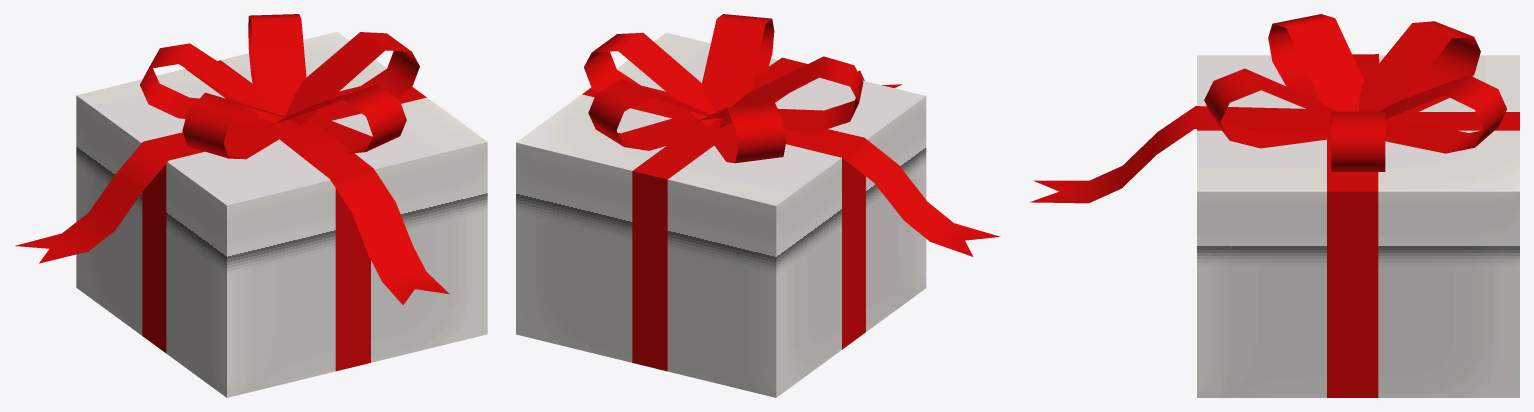
The model's file is giftbox.obj.
The picture shows the model from 3 angles, left to right: view 1: azimuth 30°, elevation 25°; view 2: azimuth 150°, elevation 25°; view 3: azimuth 270°, elevation 25°; orthographic projection. The views are drawn at different scales.
Parts seen in each view (by area): view 1: box, obj_frame_red; view 2: box, obj_frame_red; view 3: box, obj_frame_red.
Boxes of the visible parts, left/top/right/bottom form: box: left=76, top=32, right=487, bottom=397; obj_frame_red: left=15, top=14, right=449, bottom=371; box: left=516, top=32, right=926, bottom=397; obj_frame_red: left=582, top=14, right=1000, bottom=371; box: left=1197, top=55, right=1519, bottom=397; obj_frame_red: left=1030, top=14, right=1519, bottom=397.
Size of the model in its own units: 0.8258 by 0.4984 by 0.8346.
2 materials, 2 textured.
